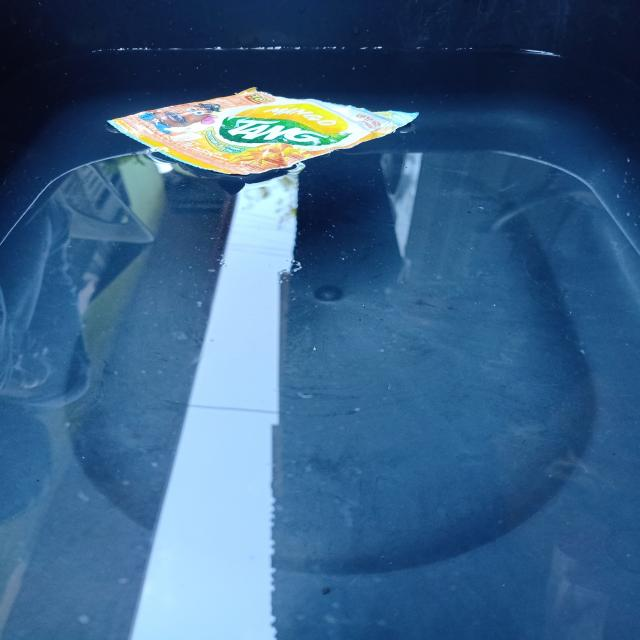Plastic Wrapper: (103, 82, 422, 186)
